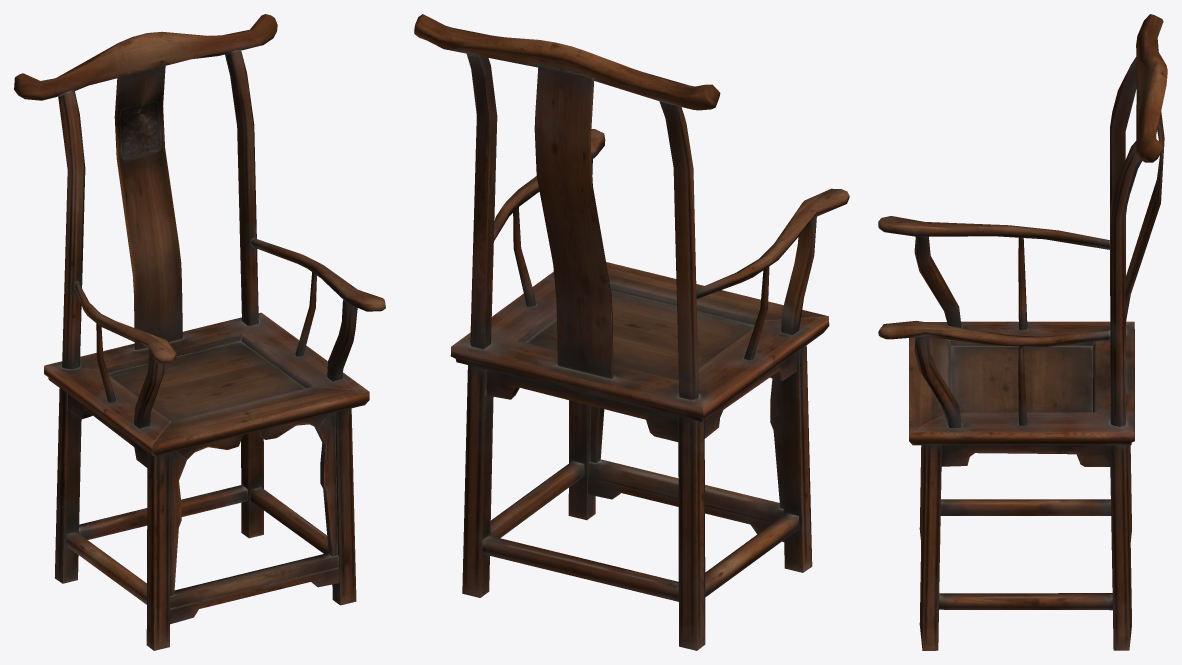
The model's file is chinese_armchair.glb.
The picture shows the model from 3 angles, left to right: view 1: azimuth 30°, elevation 25°; view 2: azimuth 150°, elevation 25°; view 3: azimuth 270°, elevation 25°; orthographic projection. The views are drawn at different scales.
Parts seen in each view (by area): view 1: chinese_armchair; view 2: chinese_armchair; view 3: chinese_armchair.
Part boxes in pixels (bbox=[...]): chinese_armchair: bbox=[14, 14, 385, 650]; chinese_armchair: bbox=[414, 14, 849, 650]; chinese_armchair: bbox=[878, 14, 1167, 650].
Bounding box in the file's own units: 0.8483 × 1.59 × 0.7857.
Materials: 1 (1 with a texture image).
